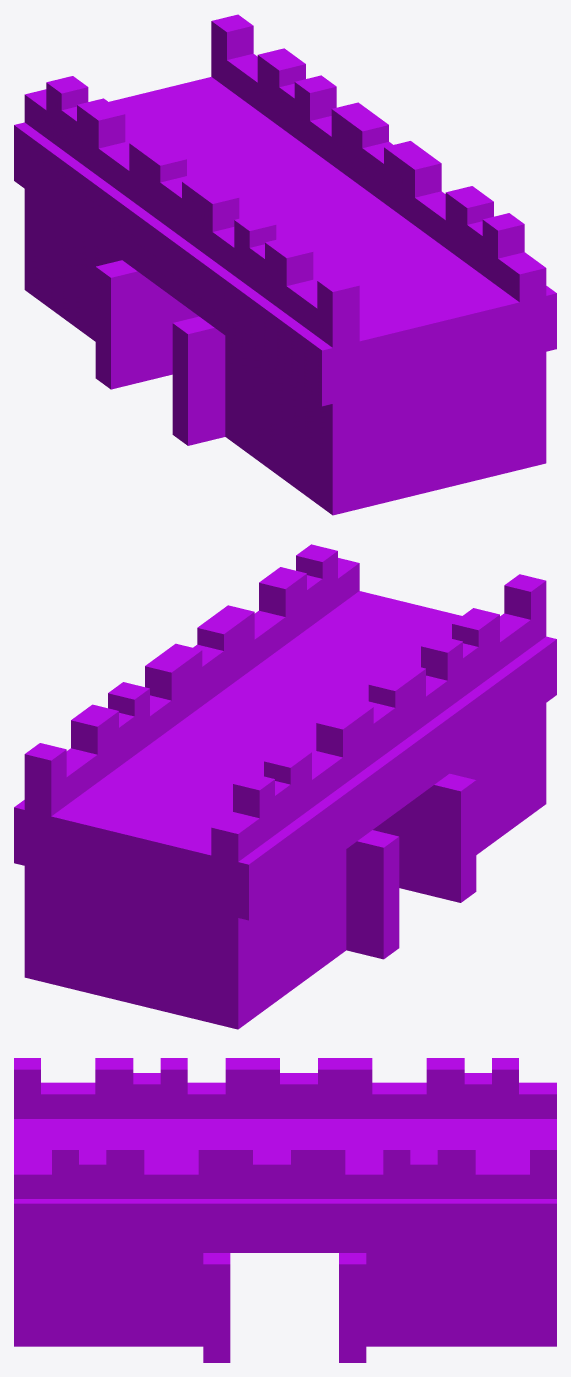
The model's file is muralha remodelada p2 com acesso.fbx.
3 renders of one model, top to bottom at view 1: azimuth 30°, elevation 25°; view 2: azimuth 150°, elevation 25°; view 3: azimuth 270°, elevation 25°, orthographic. The views are drawn at different scales.
Visible parts, largest first — view 1: muralha remodelada p2 com saida; view 2: muralha remodelada p2 com saida; view 3: muralha remodelada p2 com saida.
Part boxes in pixels (x1,y1,x2,y2): muralha remodelada p2 com saida: [14, 14, 556, 515]; muralha remodelada p2 com saida: [14, 544, 556, 1029]; muralha remodelada p2 com saida: [14, 1058, 556, 1362].
Size of the model in its own units: 540 by 400 by 1000.
